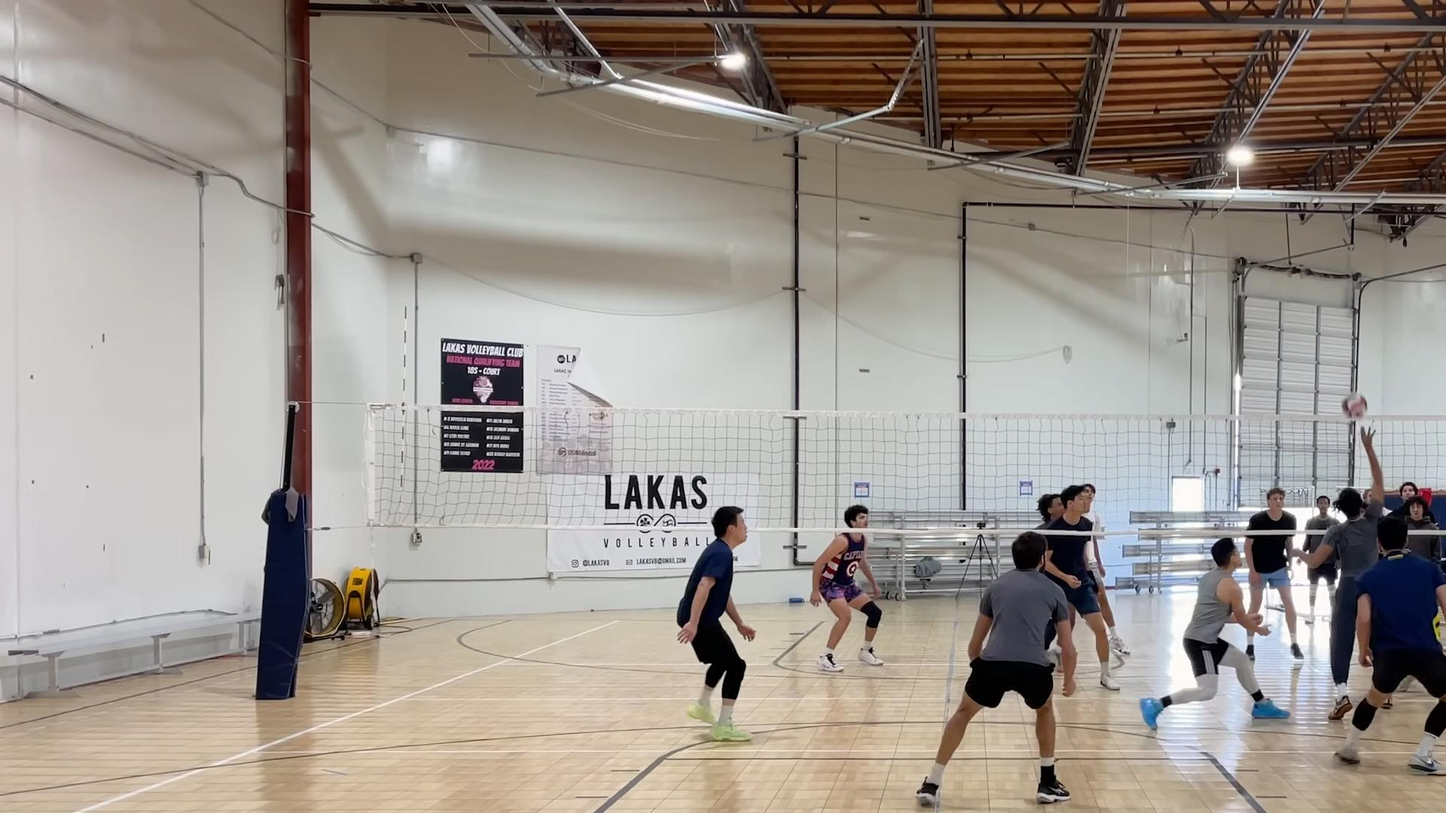Player: (916, 531, 1075, 805), (1335, 517, 1445, 775), (1140, 539, 1289, 729), (1297, 428, 1383, 720), (677, 507, 755, 741), (1045, 485, 1118, 690), (810, 505, 883, 671), (1244, 488, 1303, 667), (1088, 536, 1129, 655), (1036, 493, 1063, 529)
ball: (1339, 389, 1366, 417)
